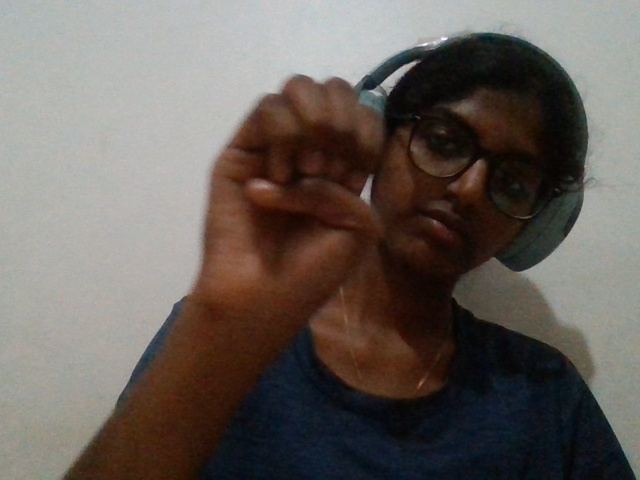E: (122, 48, 424, 421)
